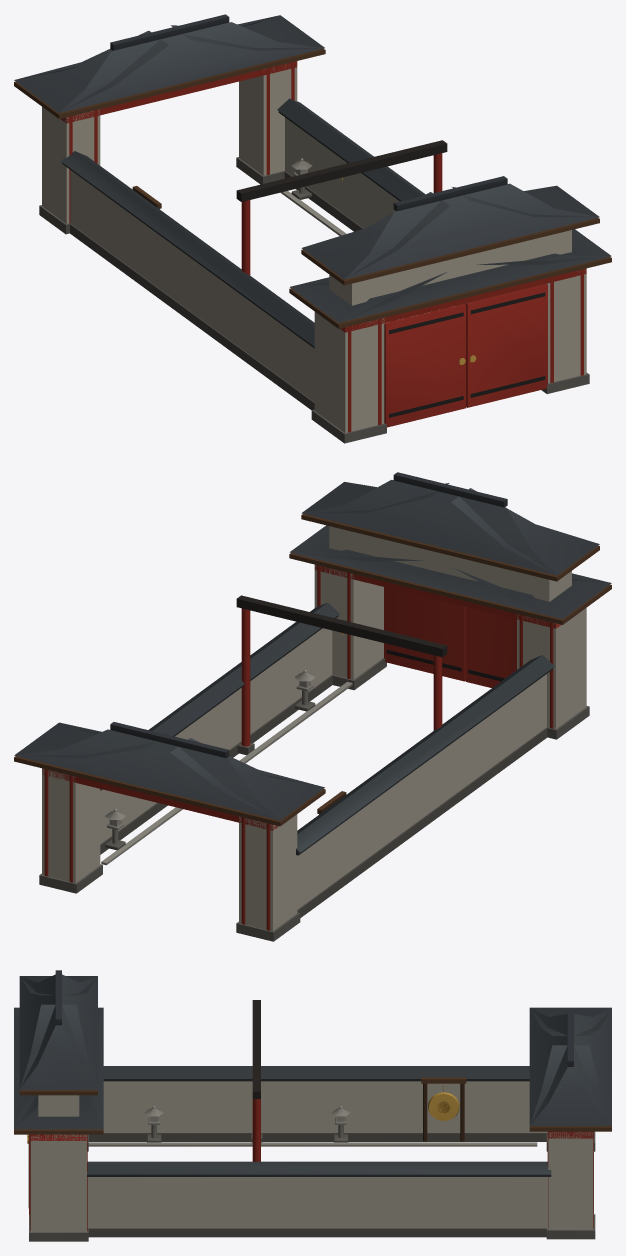
Rendered from prop.bamboo_temple.lod1.glb.
The picture shows the model from 3 angles, top to bottom: view 1: azimuth 30°, elevation 25°; view 2: azimuth 150°, elevation 25°; view 3: azimuth 270°, elevation 25°; orthographic projection. The views are drawn at different scales.
Parts seen in each view (by area): view 1: bamboo_temple, door_r, door_l; view 2: bamboo_temple, door_l, door_r; view 3: bamboo_temple, gong.
Part boxes in pixels (box(x1,y1,x2,y2)): bamboo_temple: box(14, 14, 611, 443); door_r: box(384, 303, 466, 427); door_l: box(465, 284, 547, 407); bamboo_temple: box(14, 472, 611, 941); door_l: box(384, 587, 465, 681); door_r: box(465, 607, 516, 687); bamboo_temple: box(14, 970, 611, 1241); gong: box(428, 1085, 459, 1120).
Size of the model in its own units: 15.4 by 11.35 by 32.
